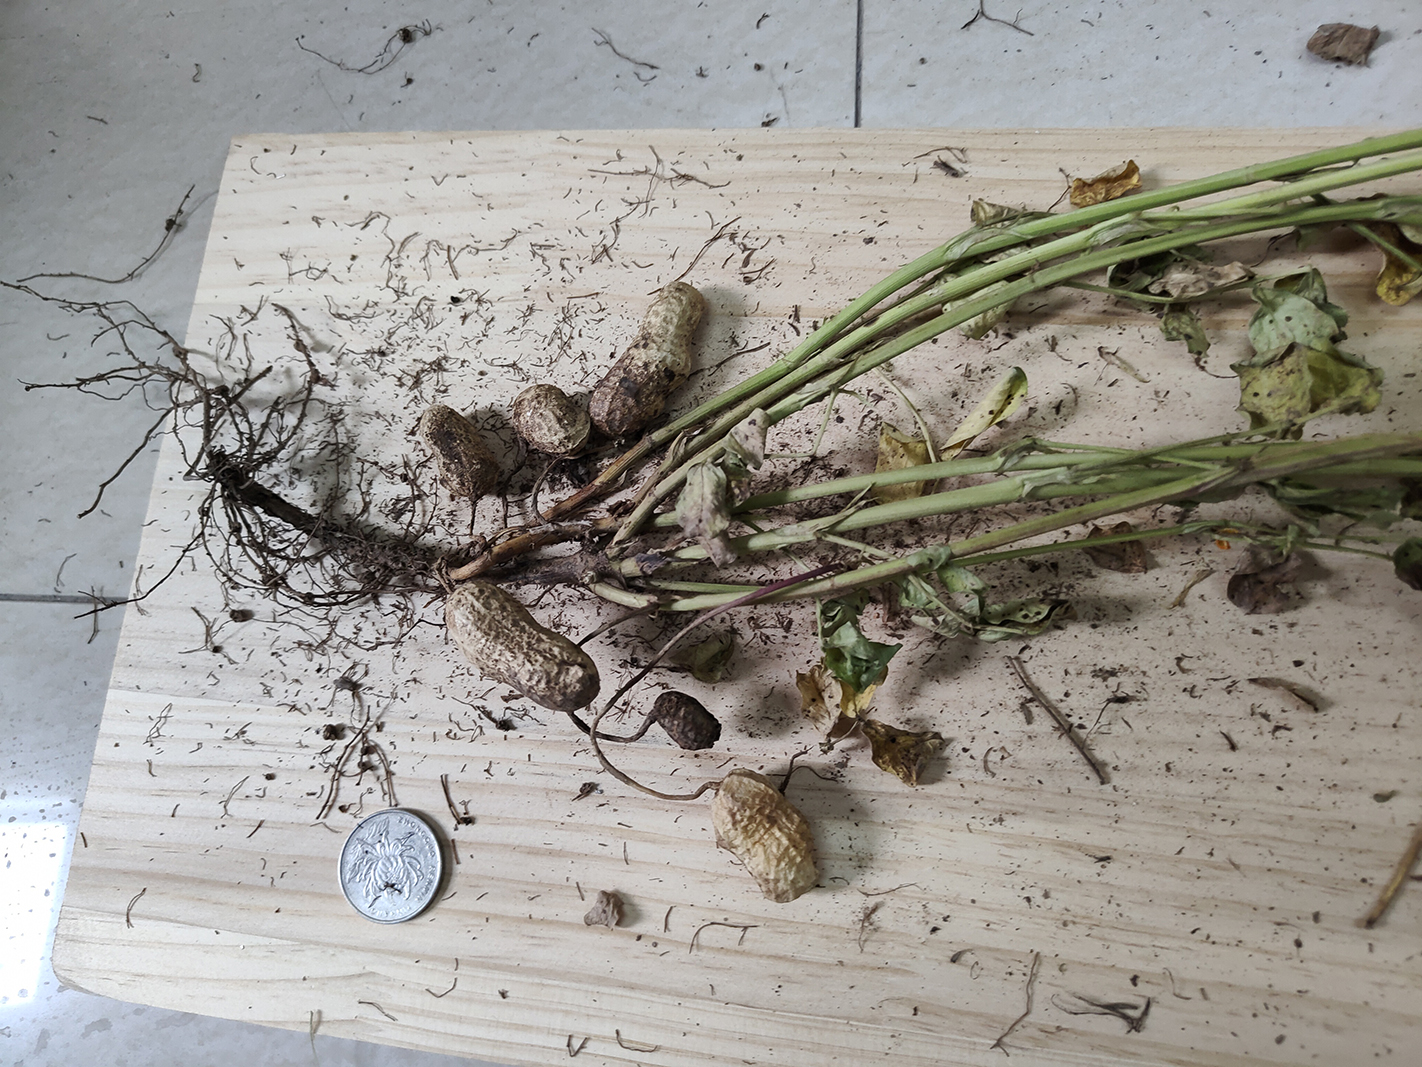h: (444, 584, 602, 711), (589, 278, 705, 446), (707, 771, 820, 902), (514, 386, 589, 457)
l: (413, 408, 493, 495), (652, 692, 723, 753)
